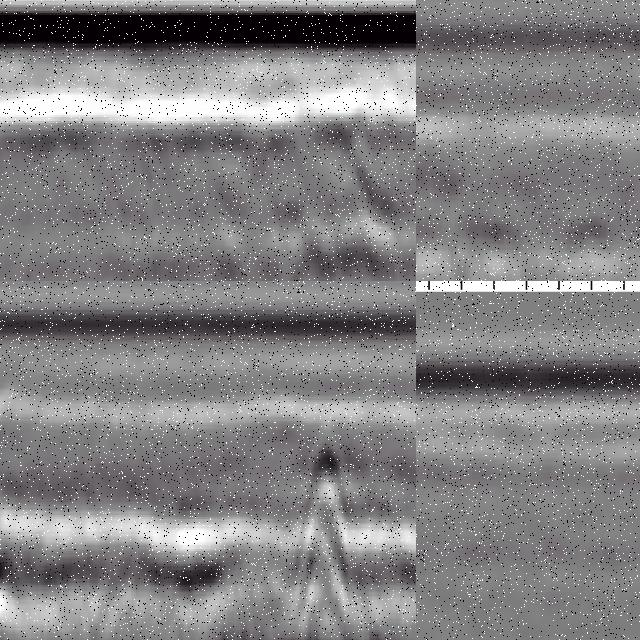crack: (299, 414, 355, 640)
loose: (1, 450, 141, 640), (203, 187, 408, 282)
